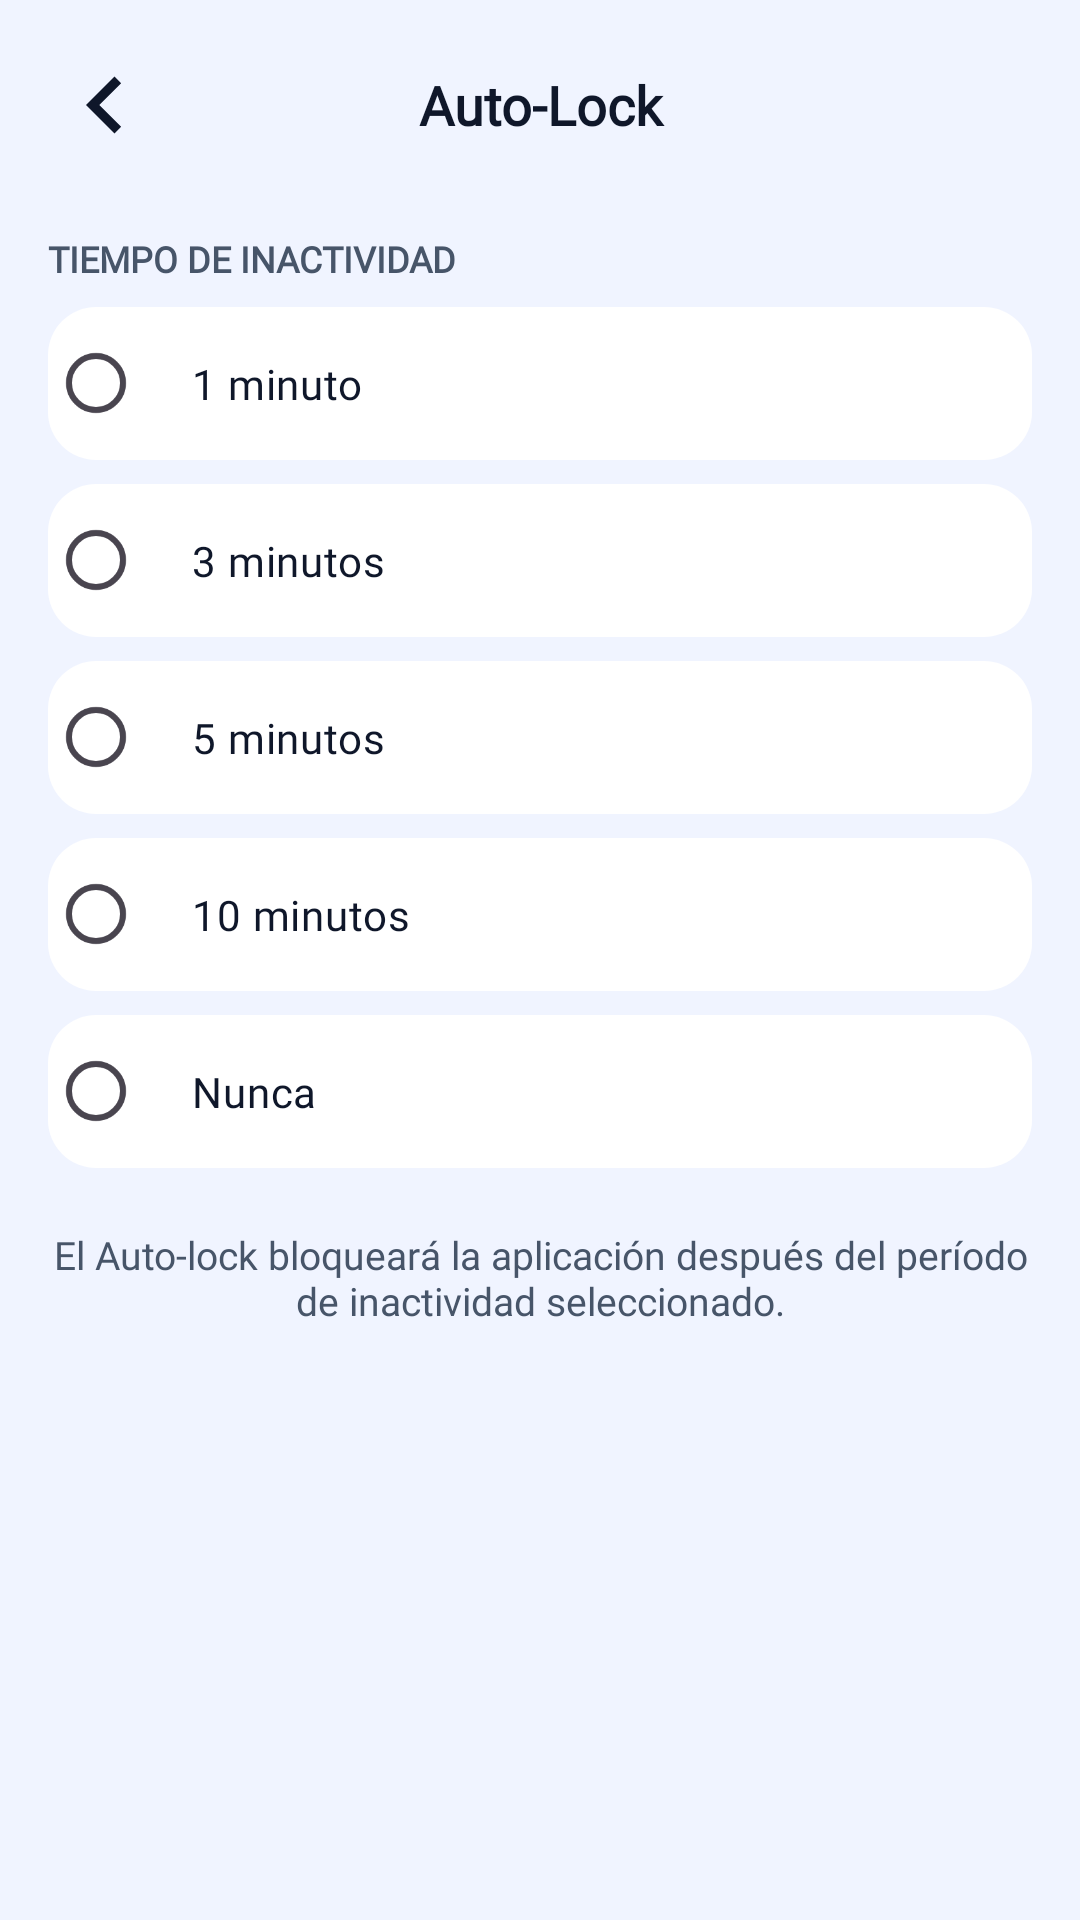

Where icons sit on this 1080w x 1920h app screen, as (x1, y1, x2, y2):
back: (86, 76, 121, 134)
